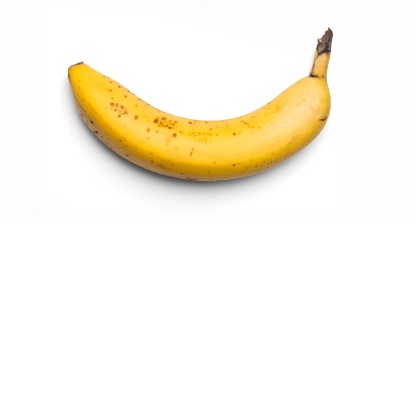chuoi: (66, 44, 338, 196)
